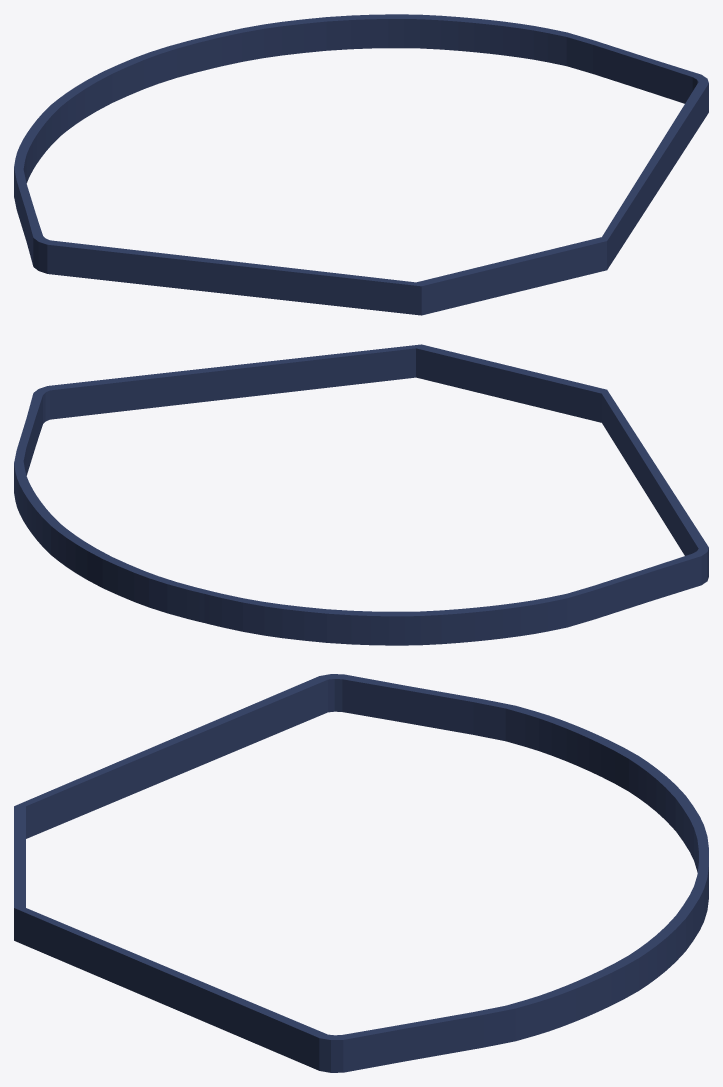
File: stadiumWall.fbx
3 renders of one model, top to bottom at view 1: azimuth 30°, elevation 25°; view 2: azimuth 150°, elevation 25°; view 3: azimuth 270°, elevation 25°, orthographic. The views are drawn at different scales.
Visible parts, largest first — view 1: 立方体.003; view 2: 立方体.003; view 3: 立方体.003.
Boxes of the visible parts, x1=… form: 立方体.003: x1=14, y1=14, x2=708, y2=315; 立方体.003: x1=14, y1=344, x2=708, y2=645; 立方体.003: x1=14, y1=674, x2=708, y2=1072.
Bounding box in the file's own units: 35328 × 1477 × 28350.
